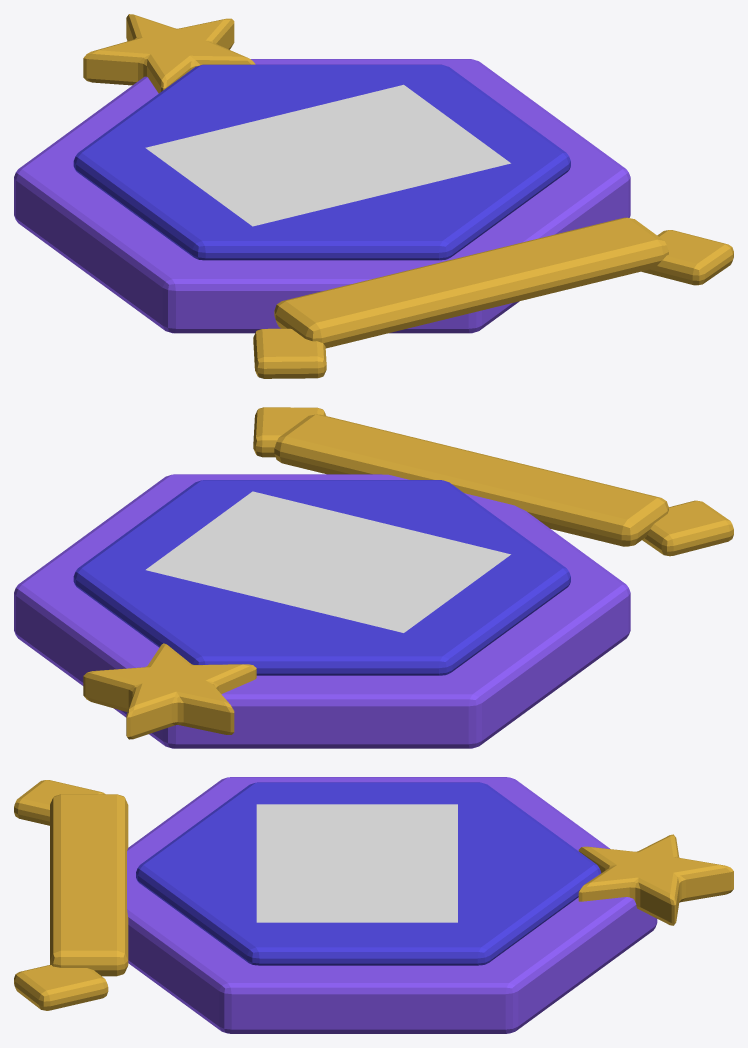
Rendered from kc_el_brasao.glb.
3 views of the same model, one above another, from view 1: azimuth 30°, elevation 25°; view 2: azimuth 150°, elevation 25°; view 3: azimuth 270°, elevation 25° (orthographic). The views are drawn at different scales.
Parts seen in each view (by area): view 1: hexa.001, hexa, screen, Cube, star, Cube.001, Cube.002; view 2: hexa, hexa.001, screen, Cube, star, Cube.001, Cube.002; view 3: hexa, hexa.001, screen, Cube, star, Cube.002, Cube.001.
Part boxes in pixels (x1,y1,x2,y2): hexa.001: (73,64,570,260); hexa: (14,59,630,333); screen: (145,84,510,226); Cube: (274,217,668,348); star: (83,14,255,93); Cube.001: (253,328,326,378); Cube.002: (641,230,733,285); hexa: (14,474,630,748); hexa.001: (73,480,570,675); screen: (146,491,510,632); Cube: (274,414,668,546); star: (83,643,256,739); Cube.001: (642,500,733,556); Cube.002: (253,407,326,457); hexa: (127,777,657,1033); hexa.001: (136,782,601,965); screen: (256,804,457,922); Cube: (50,794,128,976); star: (578,834,733,925); Cube.002: (14,965,108,1010); Cube.001: (14,780,105,825).
Bounding box in the file's own units: 0.9205 × 0.133 × 1.29.
